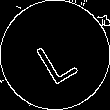L_NW: (29, 25, 81, 85)
